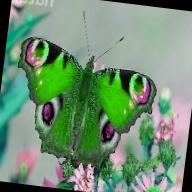butterfly: (17, 38, 156, 166)
